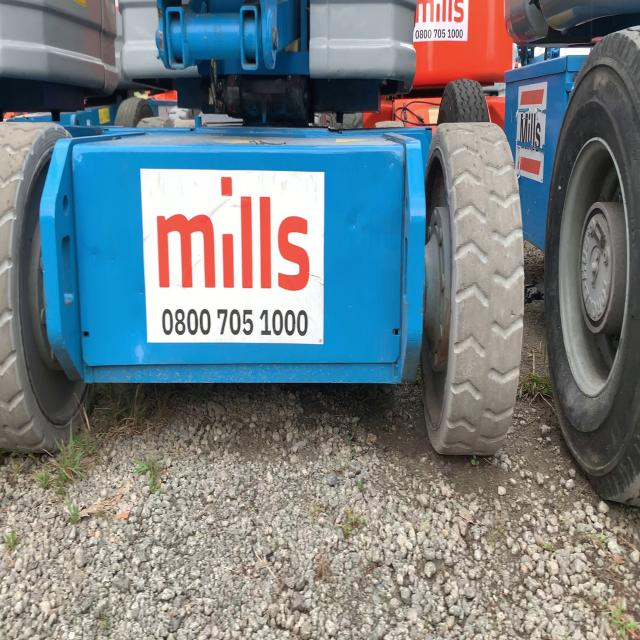Adesivos: (138, 166, 328, 349)
